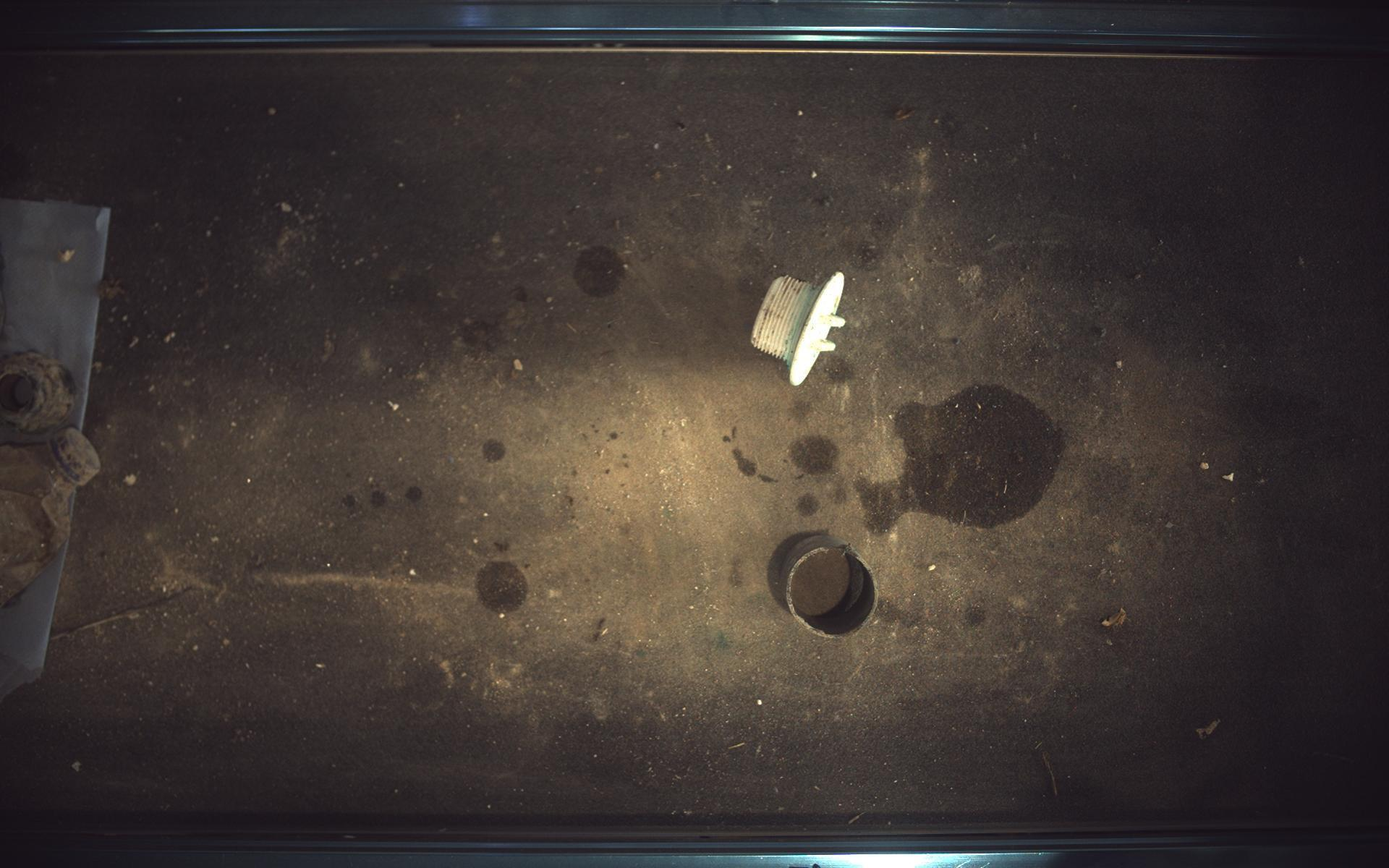general_w: (1, 427, 98, 607)
pipes: (769, 535, 879, 637)
plastic: (752, 271, 846, 386), (1, 351, 75, 442)
